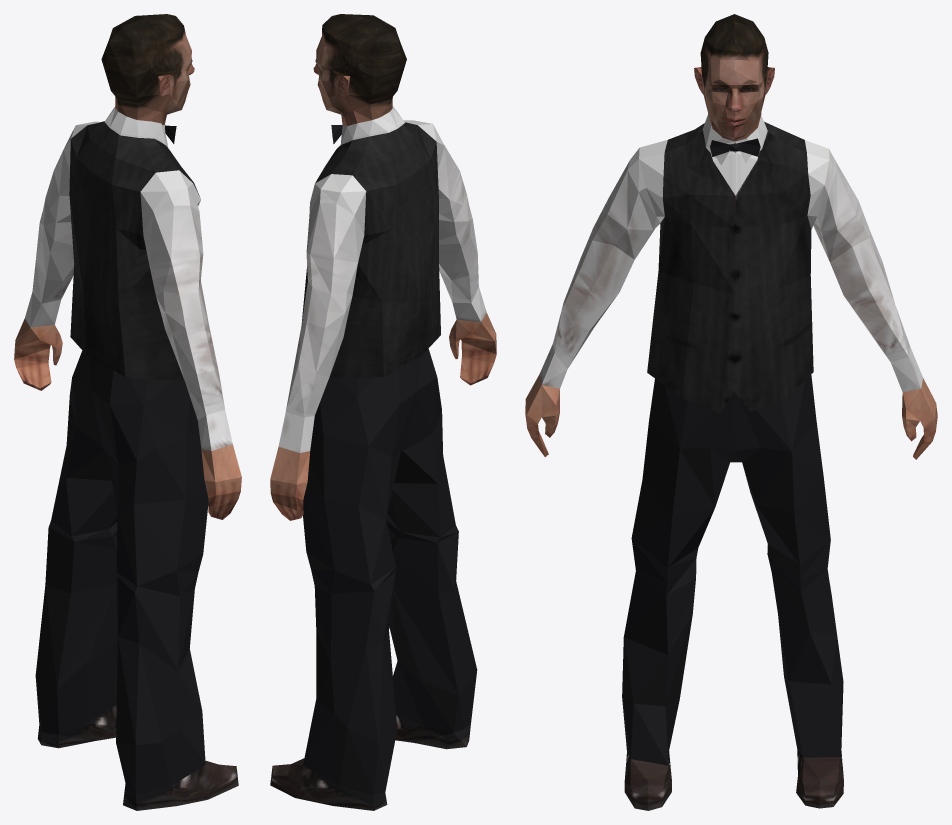
File: vwmybjd.obj
The picture shows the model from 3 angles, left to right: view 1: azimuth 30°, elevation 25°; view 2: azimuth 150°, elevation 25°; view 3: azimuth 270°, elevation 25°; orthographic projection. The views are drawn at different scales.
Visible parts, largest first — view 1: _Pelvis; view 2: _Pelvis; view 3: _Pelvis.
Boxes of the visible parts, x1=… form: _Pelvis: x1=14, y1=14, x2=241, y2=810; _Pelvis: x1=270, y1=14, x2=496, y2=810; _Pelvis: x1=525, y1=14, x2=937, y2=810.
Size of the model in its own units: 0.3084 by 1.89 by 0.9238.
1 material, 1 textured.
